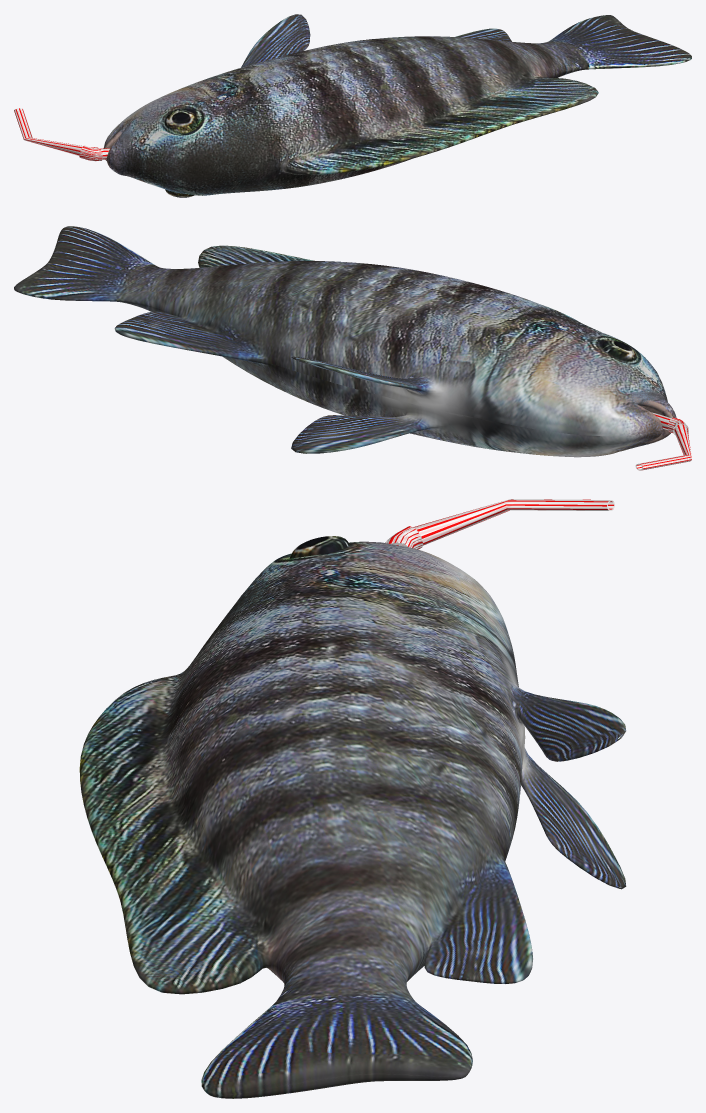
File: fishWStraw.fbx
The picture shows the model from 3 angles, top to bottom: view 1: azimuth 30°, elevation 25°; view 2: azimuth 150°, elevation 25°; view 3: azimuth 270°, elevation 25°; orthographic projection. The views are drawn at different scales.
Parts seen in each view (by area): view 1: 12992_Kenyi_Cichlid, Mesh1 Model; view 2: 12992_Kenyi_Cichlid, Mesh1 Model; view 3: 12992_Kenyi_Cichlid, Mesh1 Model.
Part boxes in pixels (box(x1,y1,x2,y2)): 12992_Kenyi_Cichlid: box(103, 14, 691, 197); Mesh1 Model: box(14, 108, 109, 161); 12992_Kenyi_Cichlid: box(14, 226, 676, 457); Mesh1 Model: box(635, 412, 691, 470); 12992_Kenyi_Cichlid: box(79, 536, 626, 1098); Mesh1 Model: box(385, 499, 614, 549).
Size of the model in its own units: 2042 by 352 by 814.
